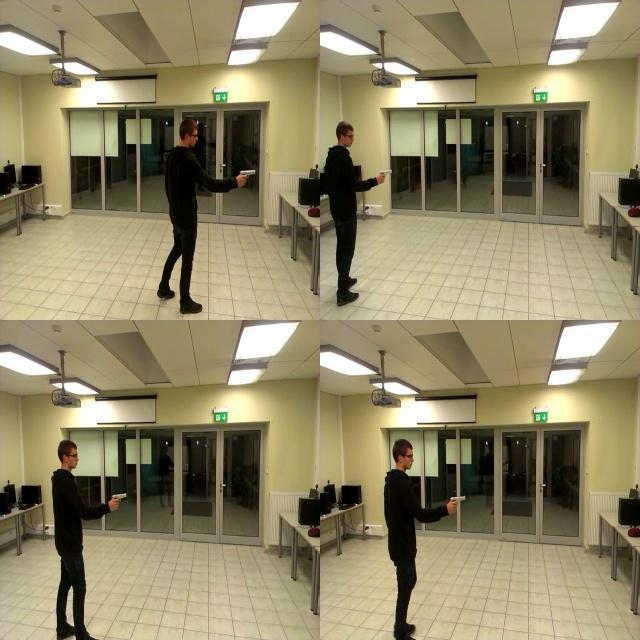gun-knife-thesis - v11 Yolov5 augmented: (444, 489, 465, 510), (107, 490, 128, 510), (235, 166, 253, 187), (375, 166, 392, 185)
